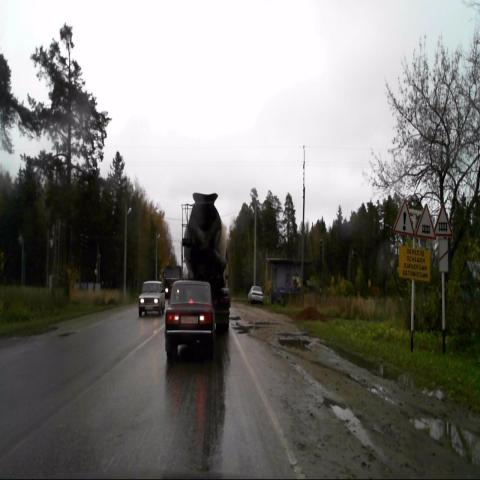1_1: (415, 203, 436, 240), (433, 202, 453, 237)
1_33: (393, 199, 415, 237)
